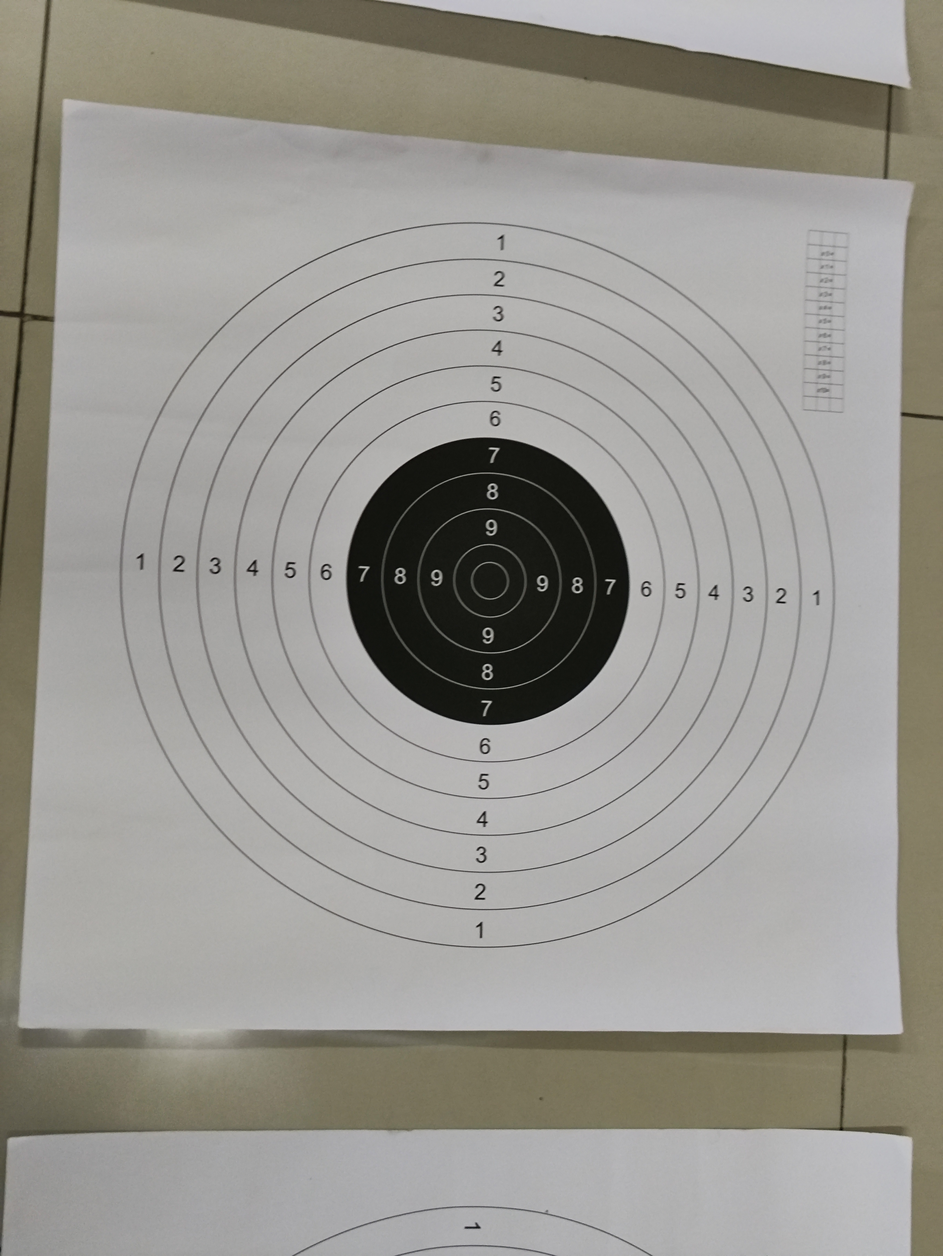target: (95, 198, 850, 972)
